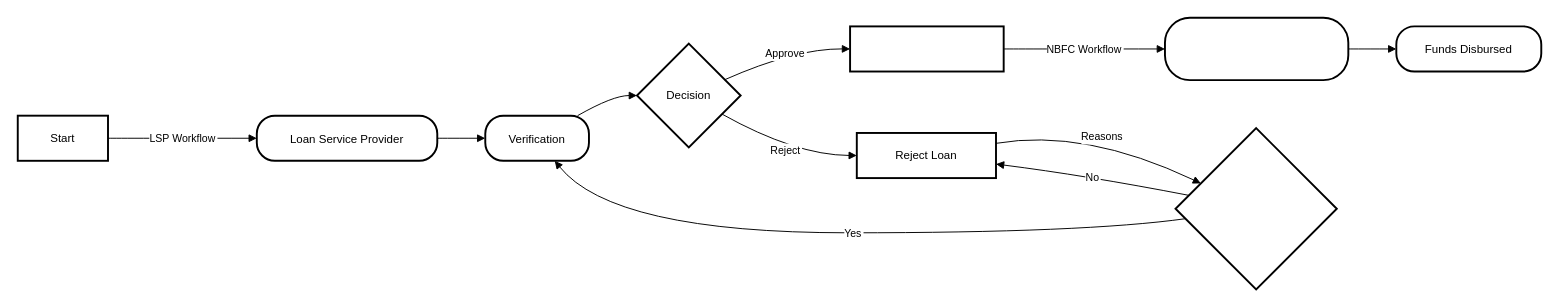
Image size: 1558x306. Some labels were removed from this diagram. The shapes that lost their labels are listed below. From the top down, each one's box as (x1, y1, x2, y2) in pixels, then its label:
(849, 25, 1004, 72): Approve Loan
(1164, 16, 1349, 81): Non-Banking Financial Company
(1174, 127, 1337, 290): Correct Reason?
